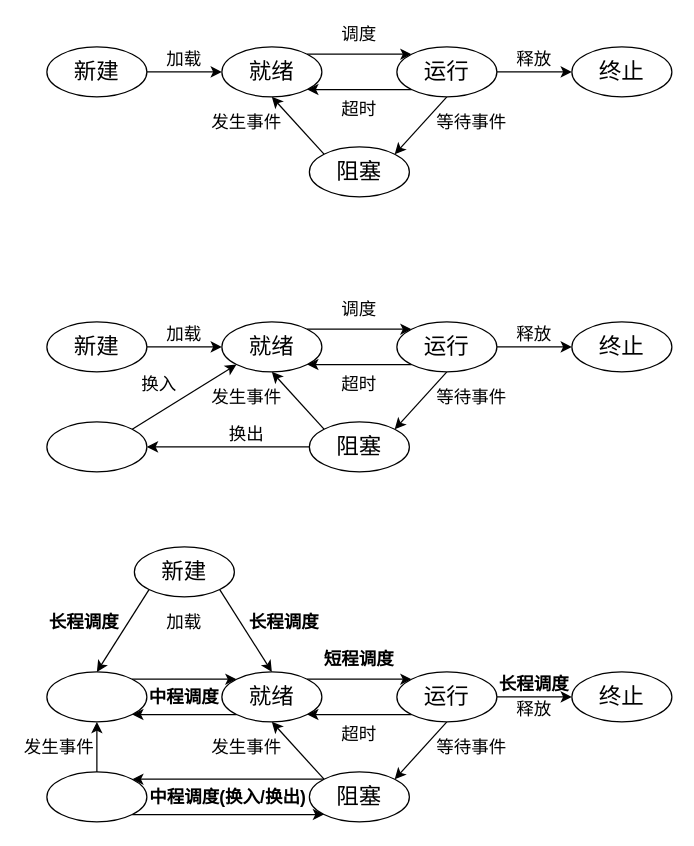
Some shapes in this 694 by 846 pixel diagram are drawn without their labels. The shapes that lost their labels are listed below. From the top down, each one's centre as x and y in pixels, then its label:
At (96,446): "挂起".
At (96,696): "就绪/挂起".
At (96,796): "阻塞/挂起".
